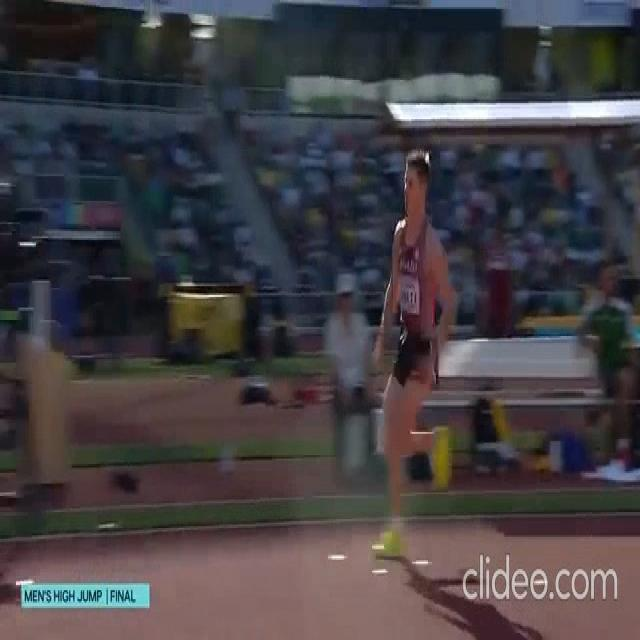run: (370, 150, 450, 553)
